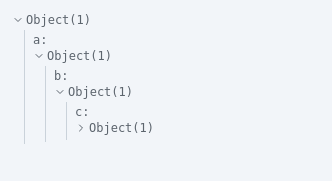
JsonTreeView › toggles a node open and closed on click
The image size is (332, 181).
expect the text "deep" is not shown: met
Click the button "Object(1)" below "c:" at x=114, y=128, box [75, 120, 154, 136]
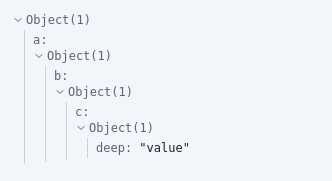
expect the text "deep" is shown: met, box [96, 141, 139, 155]
Click the button "Object(1)" below "c:" at x=114, y=128, box [75, 120, 154, 136]
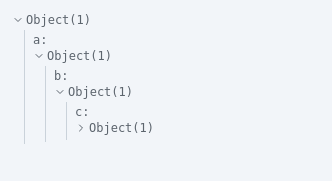
expect the text "deep" is gone: met
